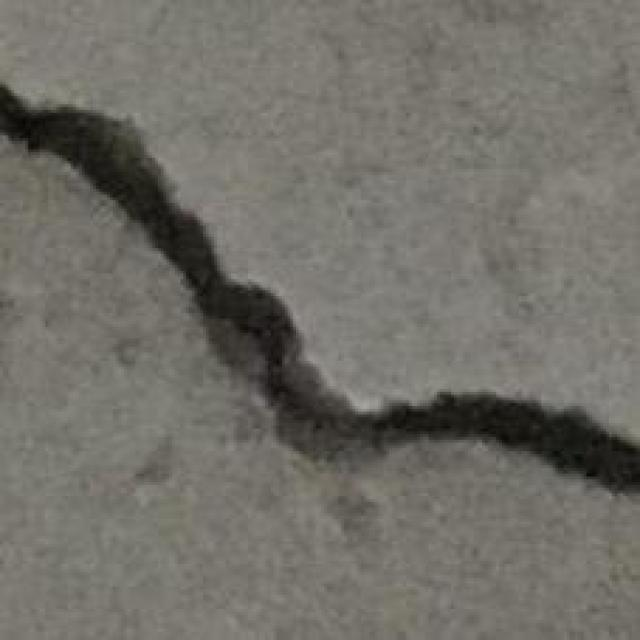Diagonal: (0, 72, 355, 475)
Transverse: (371, 386, 637, 496)
